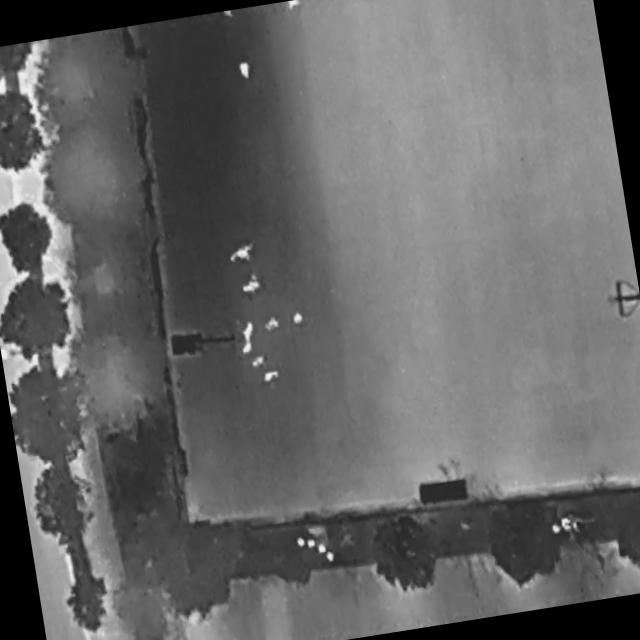person: (225, 238, 260, 270), (239, 274, 266, 300), (237, 315, 261, 344), (248, 350, 270, 374), (262, 313, 284, 335), (237, 338, 258, 361), (289, 309, 308, 330), (263, 366, 282, 384), (239, 60, 254, 82), (288, 1, 304, 11), (224, 11, 235, 21)
